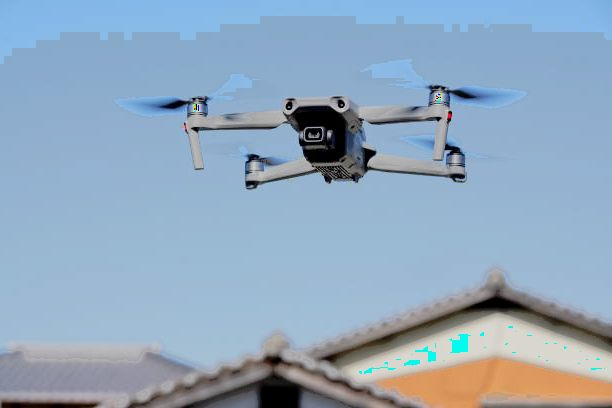Drone: (122, 76, 521, 198)
